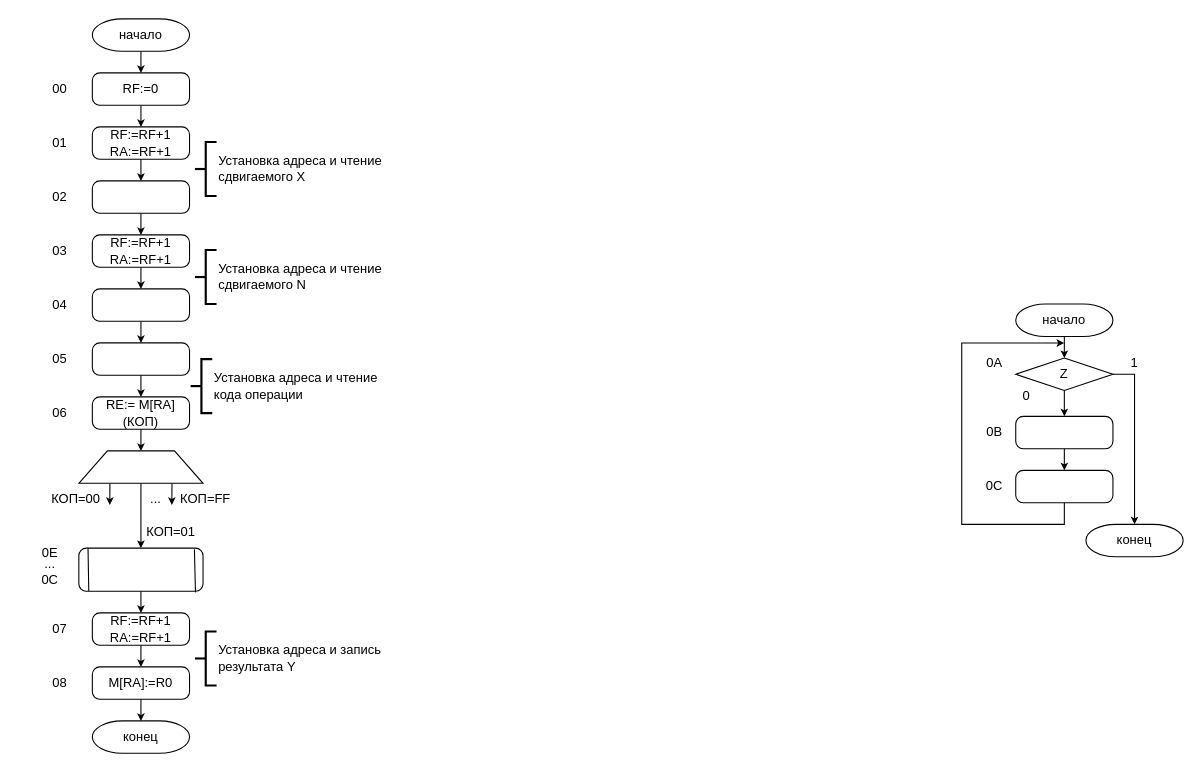
Some shapes in this 1203 by 772 pixel diagram are drawn without their labels. The shapes that lost their labels are listed below. From the top down, each one's centre as x and y in pixels, then its label:
[140,196]: R0:=M[RA](X)
[140,304]: R9:=M[RA](N)
[140,358]: RA:=0
[1064,432]: R0:=2R0
[140,466]: Дешифрация КОП
[1064,486]: R9:=R9-1
[140,569]: Микропрограмма сдвига
